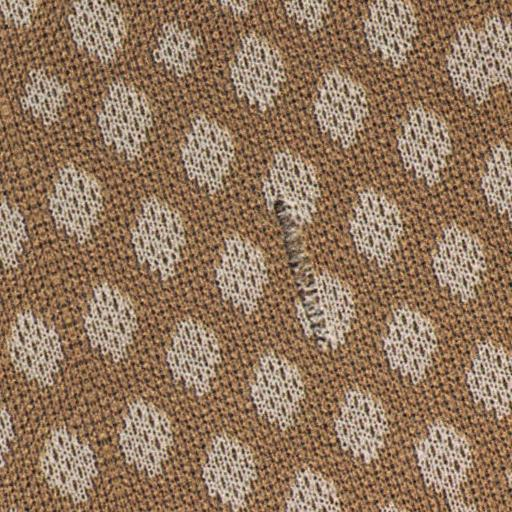slub: (263, 184, 351, 362)
